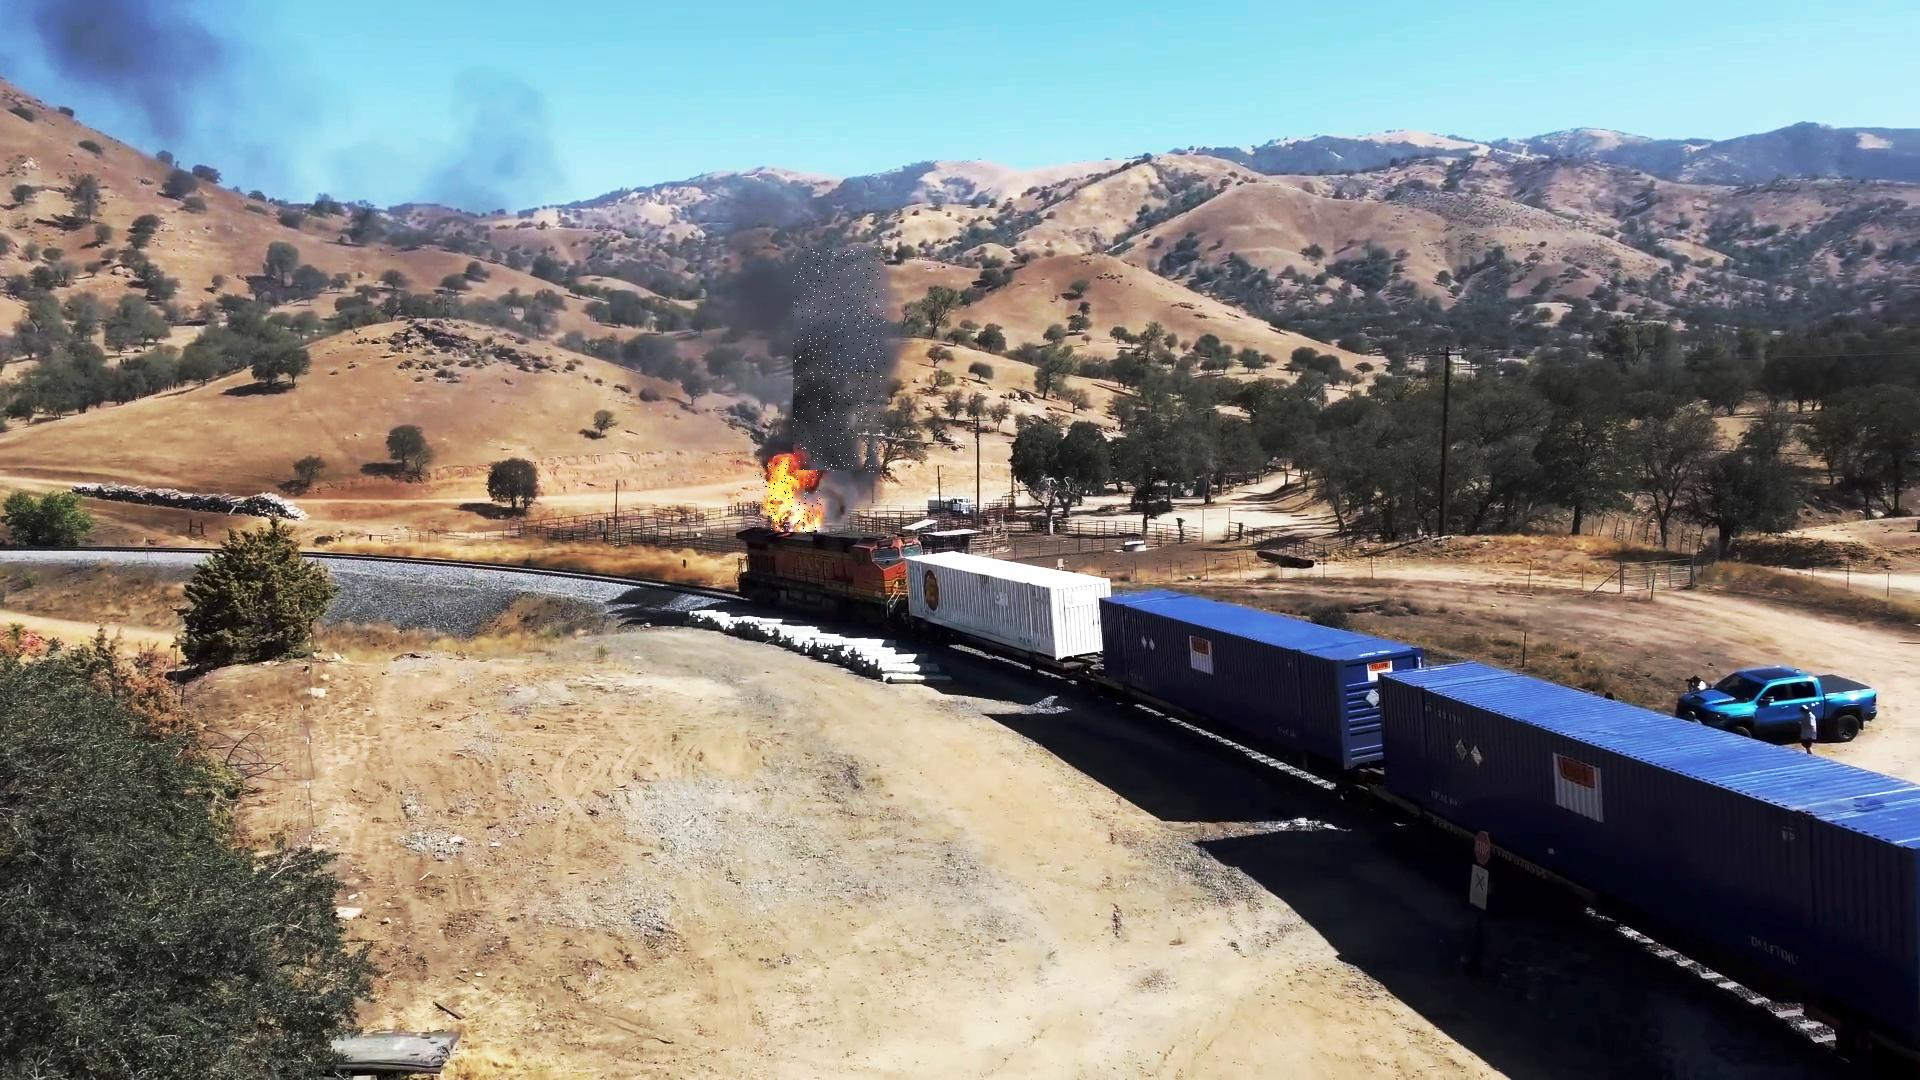fire: (756, 458, 822, 533)
smoke: (793, 248, 885, 472)
